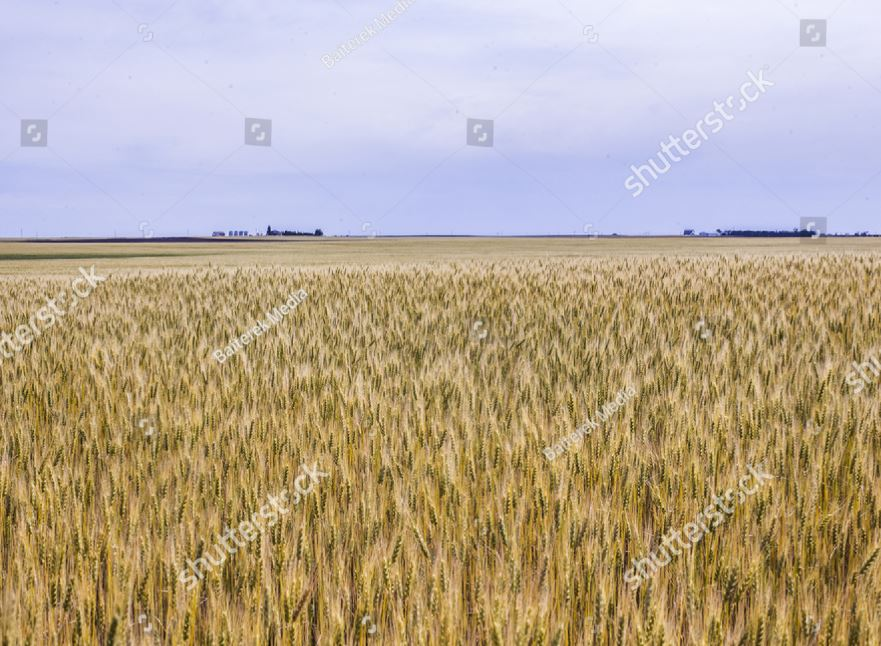Wheat: (46, 346, 856, 638)
